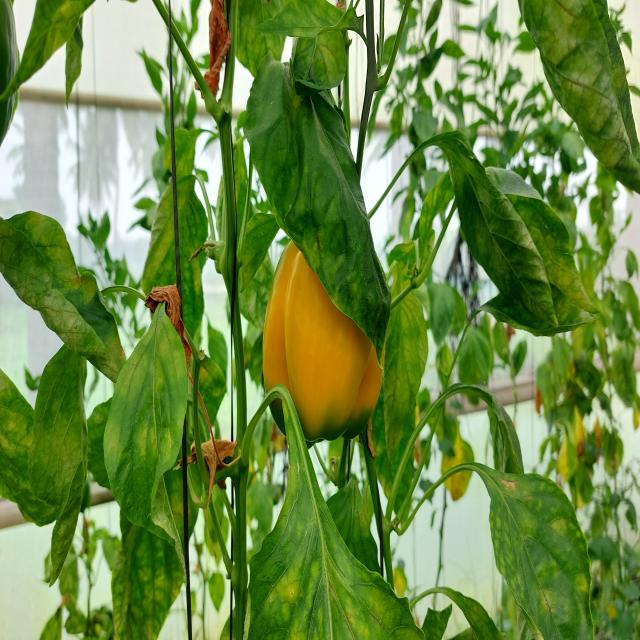Yellow-Ready-to-Harvest: (266, 225, 382, 435)
